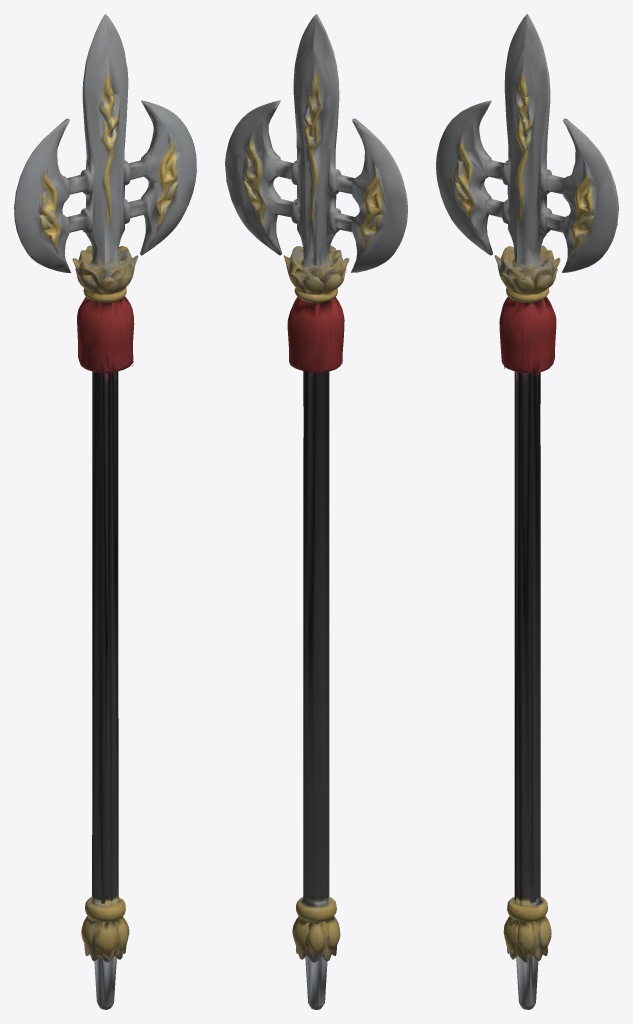
The model's file is kich.glb.
The picture shows the model from 3 angles, left to right: view 1: azimuth 30°, elevation 25°; view 2: azimuth 150°, elevation 25°; view 3: azimuth 330°, elevation 25°; orthographic projection.
Visible parts, largest first — view 1: node_0; view 2: node_0; view 3: node_0.
Part boxes in pixels (x1,y1,x2,y2): node_0: (14,14,196,1009); node_0: (225,14,407,1009); node_0: (436,14,618,1009).
Bounding box in the file's own units: 0.185 × 0.9625 × 0.0561.
Materials: 1 (1 with a texture image).
